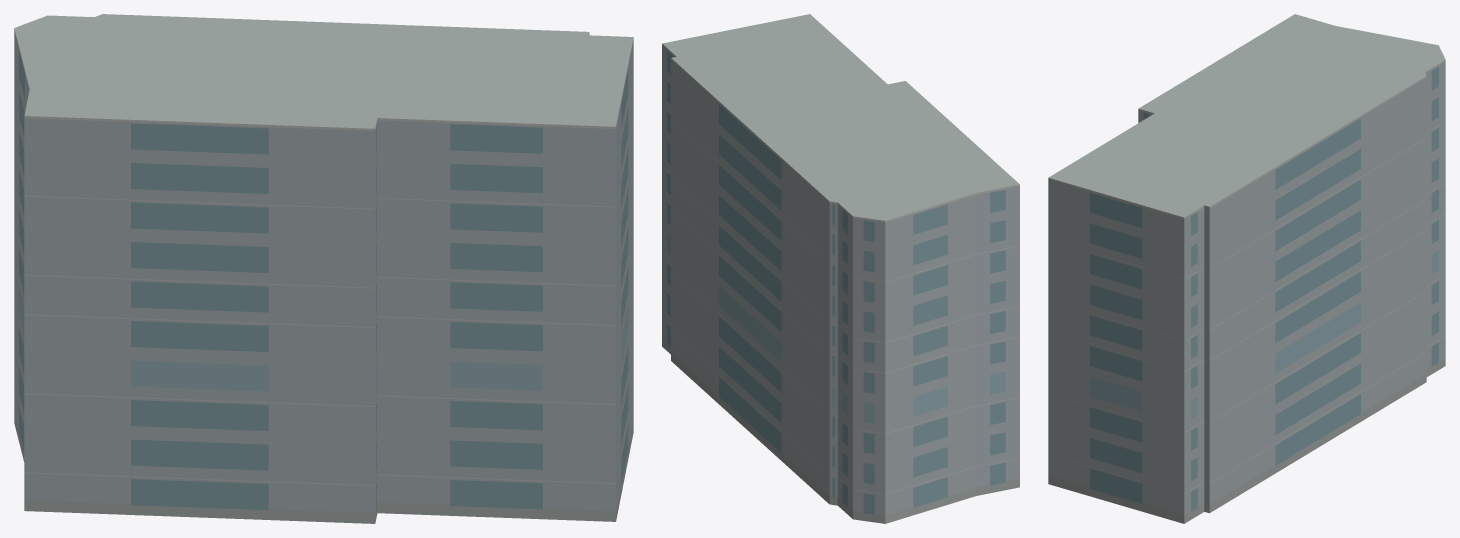
Rendered from survey-upis-32940355.glb.
The picture shows the model from 3 angles, left to right: view 1: azimuth 30°, elevation 25°; view 2: azimuth 150°, elevation 25°; view 3: azimuth 270°, elevation 25°; orthographic projection. The views are drawn at different scales.
Visible parts, largest first — view 1: survey-upis-32940355.tmp; view 2: survey-upis-32940355.tmp; view 3: survey-upis-32940355.tmp.
Boxes of the visible parts, x1,y1,x2,y2 form: survey-upis-32940355.tmp: (14,14,633,523); survey-upis-32940355.tmp: (662,14,1019,523); survey-upis-32940355.tmp: (1048,14,1445,523).
Size of the model in its own units: 60.41 by 42.4 by 49.85.
